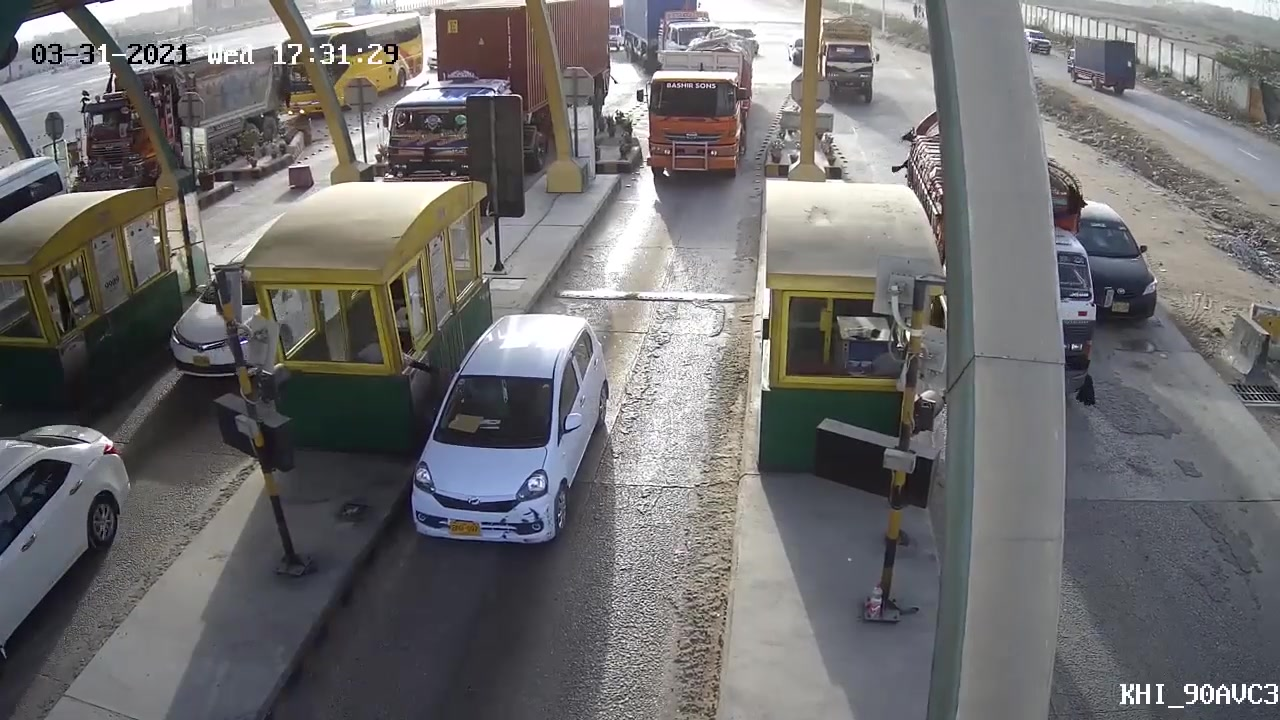F5: (395, 305, 616, 585)
